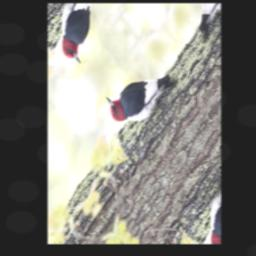Woodpecker: (101, 41, 175, 144)
